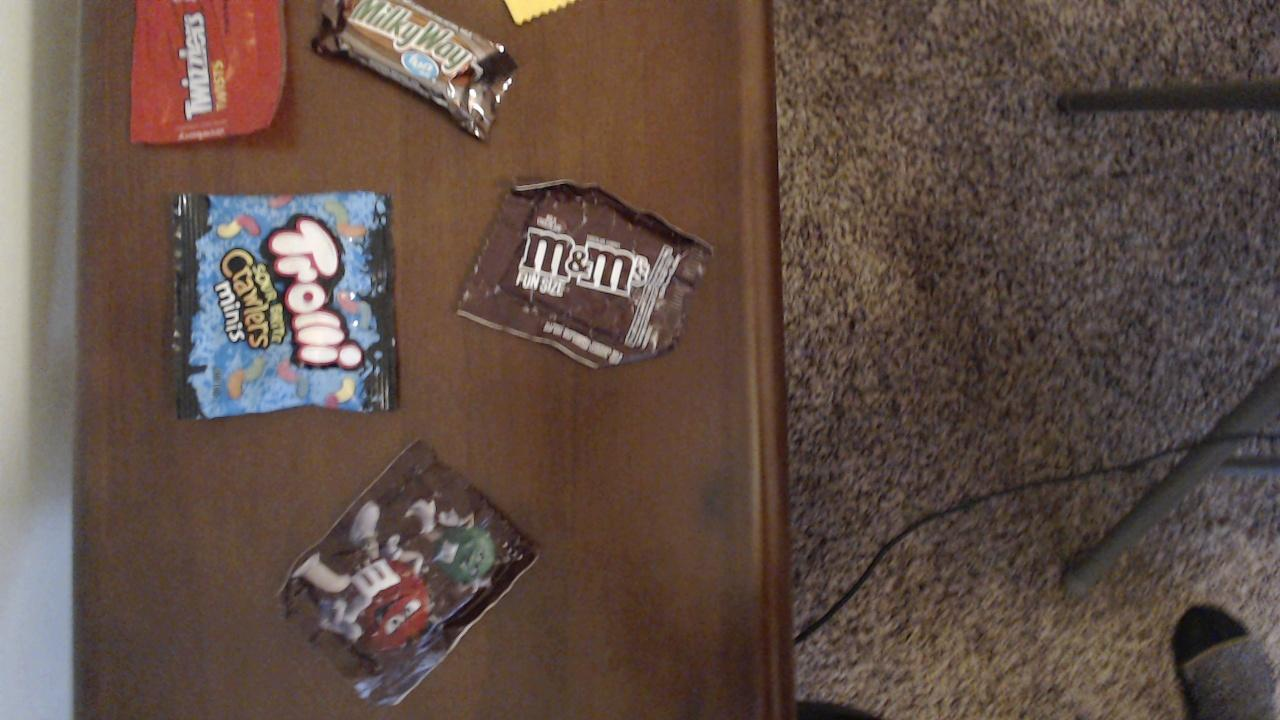MM_regular: (275, 440, 539, 706), (453, 179, 710, 370)
Trolli: (170, 190, 396, 419)
milky_way: (311, 0, 519, 142)
twizzlers: (128, 0, 286, 145)
